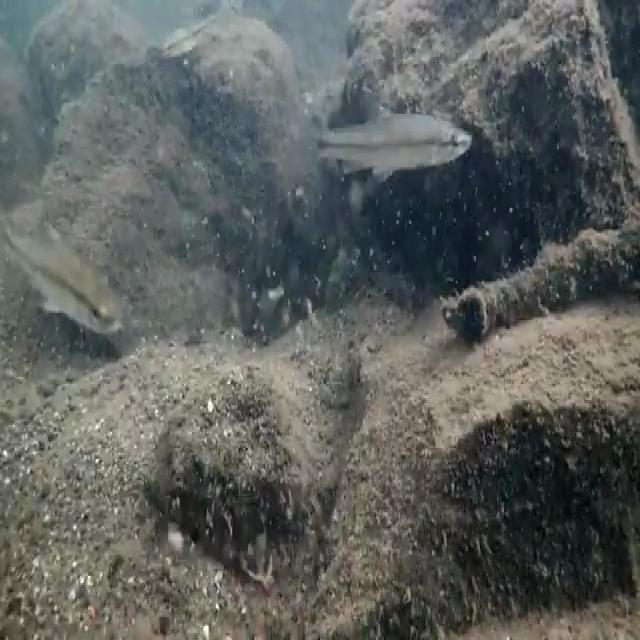Cakil Baligi: (282, 93, 475, 181), (2, 210, 121, 341)
